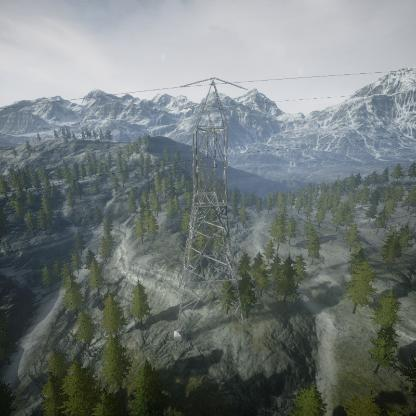tower: (177, 74, 247, 333)
